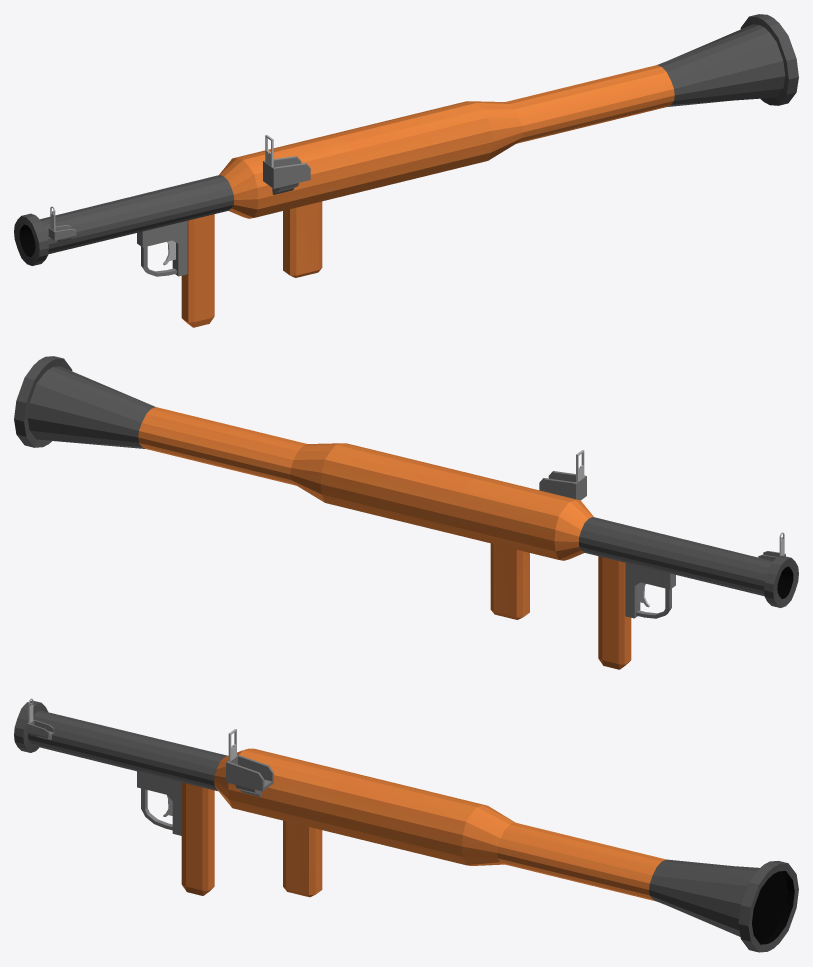
File: RPG-7.fbx
3 views of the same model, one above another, from view 1: azimuth 30°, elevation 25°; view 2: azimuth 150°, elevation 25°; view 3: azimuth 330°, elevation 25° (orthographic).
Visible parts, largest first — view 1: Cube.010, Cube, Cube.002, Cube.001, Cube.007, Cube.003; view 2: Cube.010, Cube, Cube.002, Cube.001, Cube.007, Cube.003; view 3: Cube.010, Cube, Cube.002, Cube.001, Cube.007, Cube.003.
Boxes of the visible parts, x1,y1,x2,y2 form: Cube.010: [219, 65, 674, 218]; Cube: [14, 14, 798, 265]; Cube.002: [181, 214, 214, 327]; Cube.001: [283, 201, 322, 277]; Cube.007: [137, 220, 187, 276]; Cube.003: [263, 156, 310, 194]; Cube.010: [138, 407, 593, 560]; Cube: [14, 356, 798, 607]; Cube.002: [598, 556, 631, 669]; Cube.001: [490, 543, 529, 619]; Cube.007: [625, 562, 675, 618]; Cube.003: [539, 471, 586, 500]; Cube.010: [214, 748, 666, 901]; Cube: [14, 700, 798, 952]; Cube.002: [181, 782, 214, 895]; Cube.001: [283, 820, 322, 897]; Cube.007: [137, 771, 181, 835]; Cube.003: [226, 754, 273, 796].
Bounding box in the file's own units: 972 × 232 × 114.
